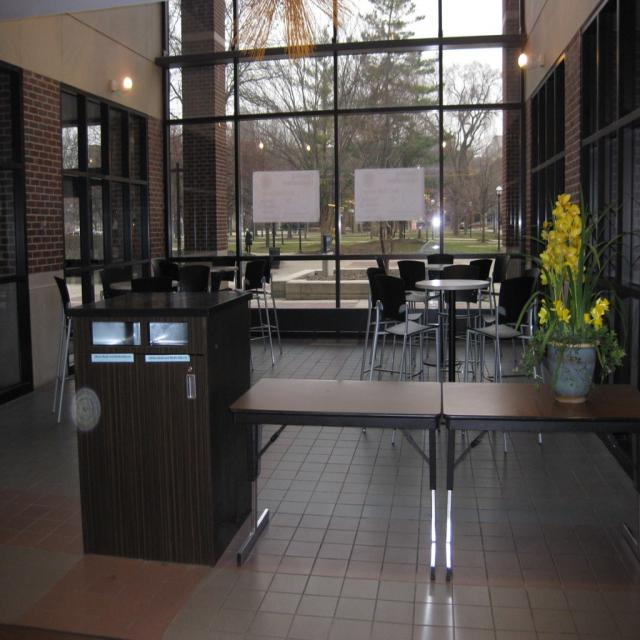chair: (363, 269, 437, 382), (465, 274, 540, 384), (51, 275, 83, 422), (243, 258, 283, 364), (100, 264, 132, 298), (178, 264, 210, 293), (151, 258, 180, 280)
desk: (258, 294, 571, 594)
